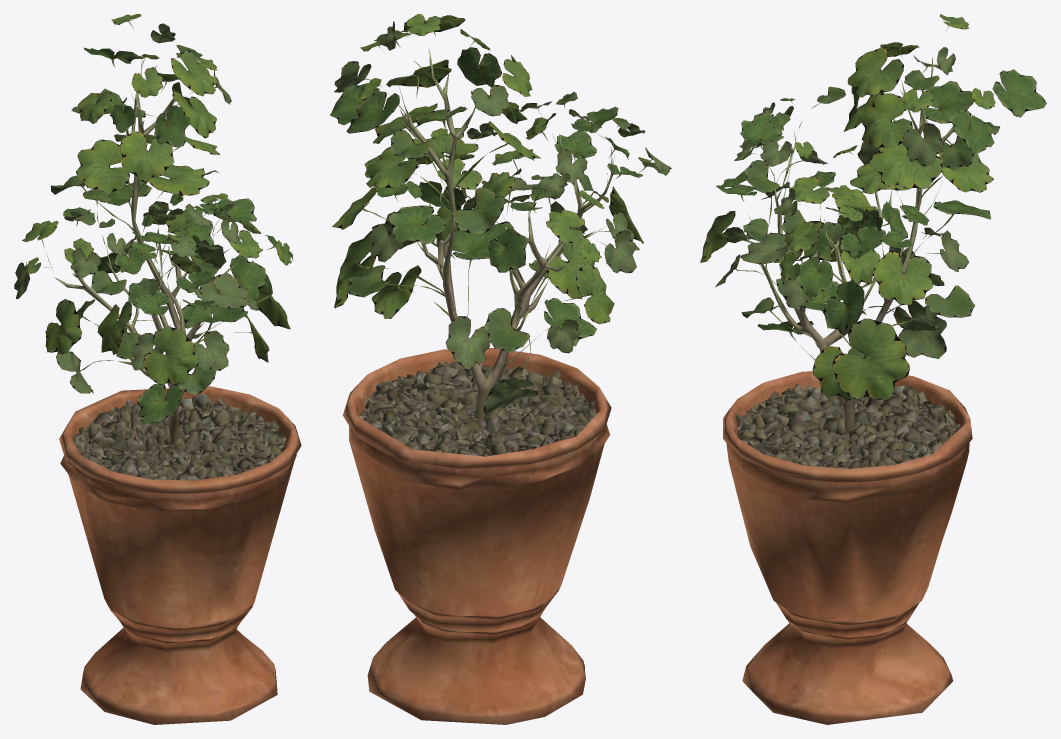
Rendered from tall-plant.glb.
3 views of the same model, side by side, from view 1: azimuth 30°, elevation 25°; view 2: azimuth 150°, elevation 25°; view 3: azimuth 270°, elevation 25° (orthographic). The views are drawn at different scales.
Parts seen in each view (by area): view 1: potted_plant_01_pot, potted_plant_01_leaves, potted_plant_01_pebbles, potted_plant_01_stem; view 2: potted_plant_01_pot, potted_plant_01_leaves, potted_plant_01_pebbles, potted_plant_01_stem; view 3: potted_plant_01_pot, potted_plant_01_leaves, potted_plant_01_pebbles, potted_plant_01_stem.
Boxes of the visible parts, x1,y1,x2,y2 form: potted_plant_01_pot: (59, 386, 301, 724); potted_plant_01_leaves: (14, 14, 293, 423); potted_plant_01_pebbles: (68, 392, 293, 492); potted_plant_01_stem: (54, 57, 244, 444); potted_plant_01_pot: (343, 348, 611, 724); potted_plant_01_leaves: (330, 14, 671, 414); potted_plant_01_pebbles: (359, 361, 596, 474); potted_plant_01_stem: (399, 48, 612, 421); potted_plant_01_pot: (723, 371, 972, 724); potted_plant_01_leaves: (700, 14, 1046, 400); potted_plant_01_pebbles: (735, 384, 966, 482); potted_plant_01_stem: (760, 57, 966, 434).
Size of the model in its own units: 0.5866 by 1.33 by 0.6336.
Materials: 2 (2 with a texture image).
